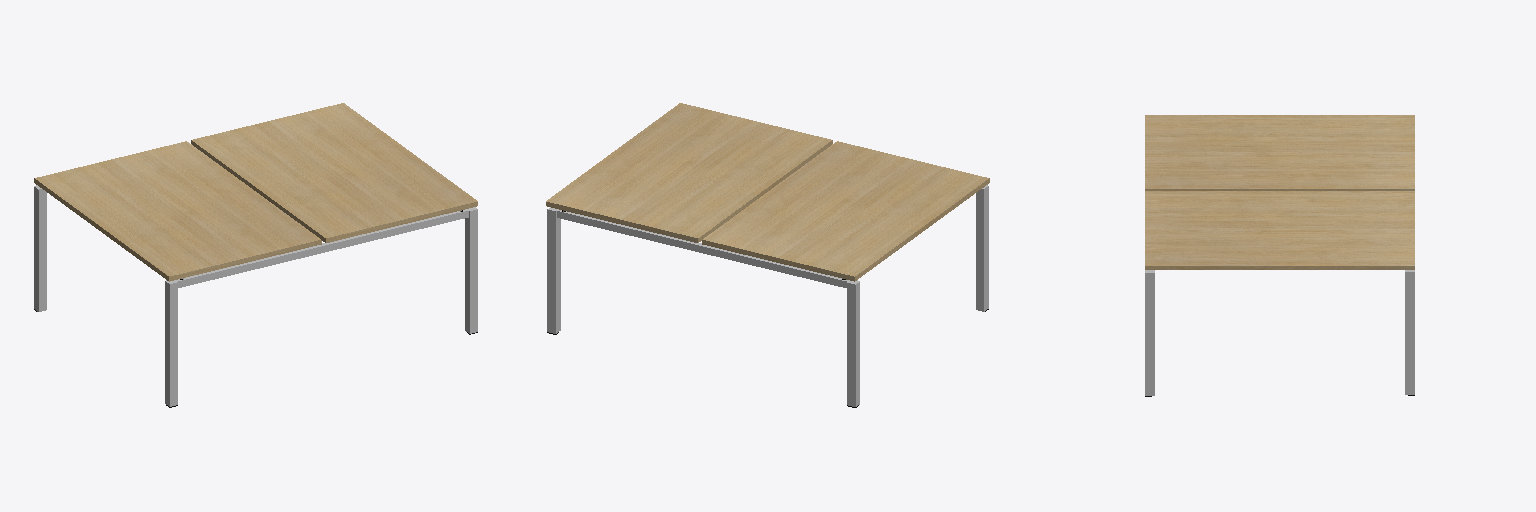
3 views of the same model, side by side, from view 1: azimuth 30°, elevation 25°; view 2: azimuth 150°, elevation 25°; view 3: azimuth 270°, elevation 25° (orthographic).
Visible parts, largest first — view 1: mesh11.002_mesh11-geometry, mesh13.002_mesh13-geometry, mesh8.005_mesh8-geometry, mesh6.010_mesh6-geometry, mesh6.011_mesh6-geometry, mesh6.009_mesh6-geometry; view 2: mesh11.002_mesh11-geometry, mesh13.002_mesh13-geometry, mesh8.006_mesh8-geometry, mesh6.012_mesh6-geometry, mesh6.011_mesh6-geometry, mesh6.010_mesh6-geometry; view 3: mesh13.002_mesh13-geometry, mesh11.002_mesh11-geometry, mesh6.009_mesh6-geometry, mesh6.012_mesh6-geometry.
Boxes of the visible parts, box(x1,y1,x2,y2) form: mesh11.002_mesh11-geometry: box(34, 141, 321, 281); mesh13.002_mesh13-geometry: box(191, 103, 477, 242); mesh8.005_mesh8-geometry: box(176, 209, 468, 287); mesh6.010_mesh6-geometry: box(165, 280, 177, 406); mesh6.011_mesh6-geometry: box(34, 185, 46, 311); mesh6.009_mesh6-geometry: box(465, 207, 477, 333); mesh11.002_mesh11-geometry: box(702, 141, 989, 281); mesh13.002_mesh13-geometry: box(546, 103, 832, 242); mesh8.006_mesh8-geometry: box(557, 209, 849, 287); mesh6.012_mesh6-geometry: box(547, 207, 560, 333); mesh6.011_mesh6-geometry: box(847, 280, 859, 406); mesh6.010_mesh6-geometry: box(976, 185, 988, 311); mesh13.002_mesh13-geometry: box(1145, 191, 1414, 269); mesh11.002_mesh11-geometry: box(1145, 115, 1414, 190); mesh6.009_mesh6-geometry: box(1145, 270, 1154, 395); mesh6.012_mesh6-geometry: box(1405, 270, 1414, 394).
Bounding box in the file's own units: 0.7597 × 0.3097 × 0.5718.
5 materials, 1 textured.